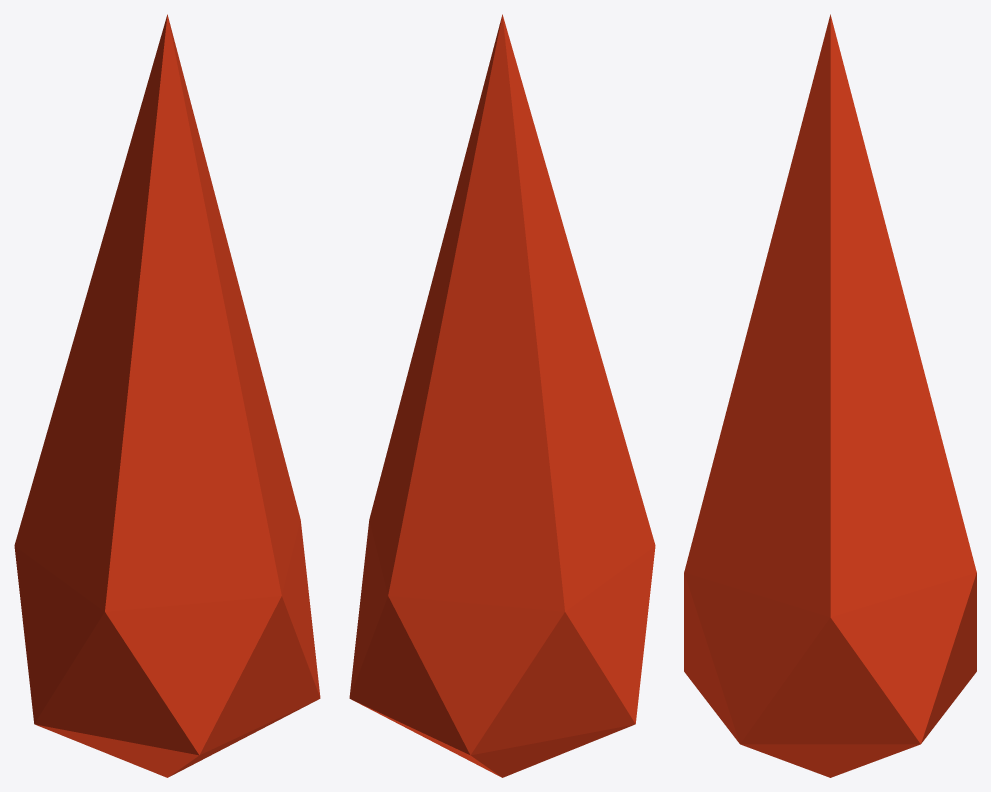
The model's file is icecreamorg.glb.
3 views of the same model, side by side, from view 1: azimuth 30°, elevation 25°; view 2: azimuth 150°, elevation 25°; view 3: azimuth 270°, elevation 25° (orthographic).
Parts seen in each view (by area): view 1: Icosphere; view 2: Icosphere; view 3: Icosphere.
Boxes of the visible parts, bbox=[...] form: Icosphere: bbox=[14, 14, 320, 777]; Icosphere: bbox=[349, 14, 655, 777]; Icosphere: bbox=[684, 14, 976, 777].
Size of the model in its own units: 1.79 by 4.9 by 1.7.
